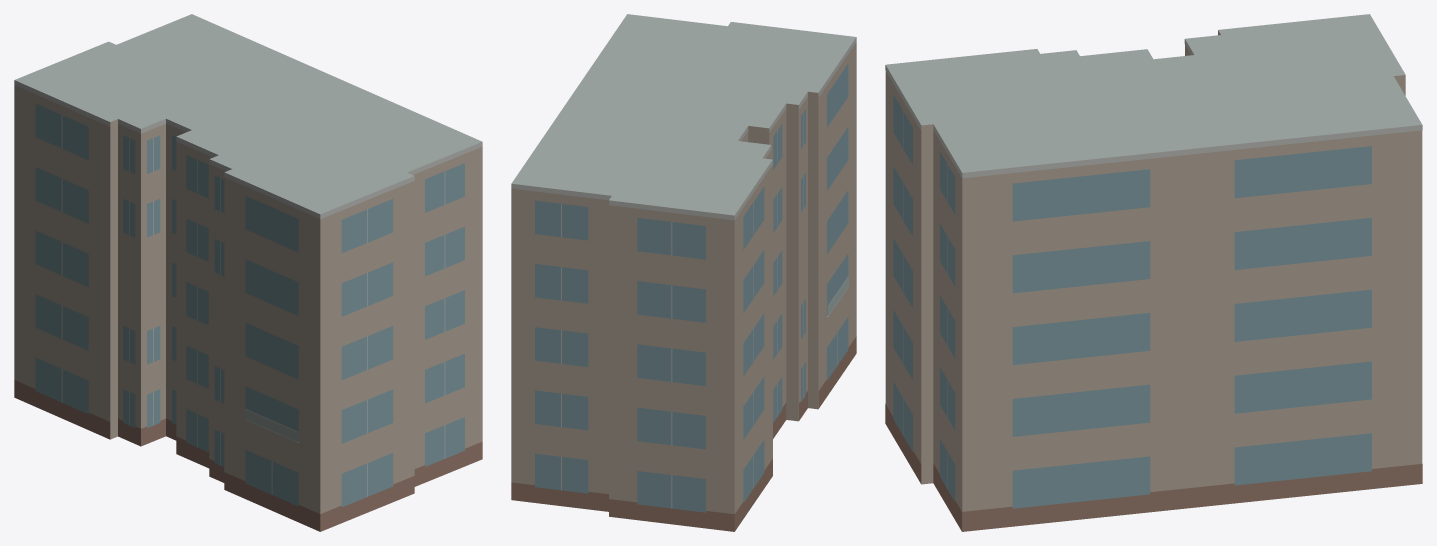
The model's file is survey-upis-32587930.glb.
3 views of the same model, side by side, from view 1: azimuth 30°, elevation 25°; view 2: azimuth 150°, elevation 25°; view 3: azimuth 270°, elevation 25° (orthographic). The views are drawn at different scales.
Visible parts, largest first — view 1: survey-upis-32587930.tmp; view 2: survey-upis-32587930.tmp; view 3: survey-upis-32587930.tmp.
Part boxes in pixels (x1=…): survey-upis-32587930.tmp: x1=14, y1=14, x2=482, y2=531; survey-upis-32587930.tmp: x1=511, y1=14, x2=856, y2=531; survey-upis-32587930.tmp: x1=885, y1=14, x2=1422, y2=531.
Size of the model in its own units: 15.2 by 16 by 21.7.
